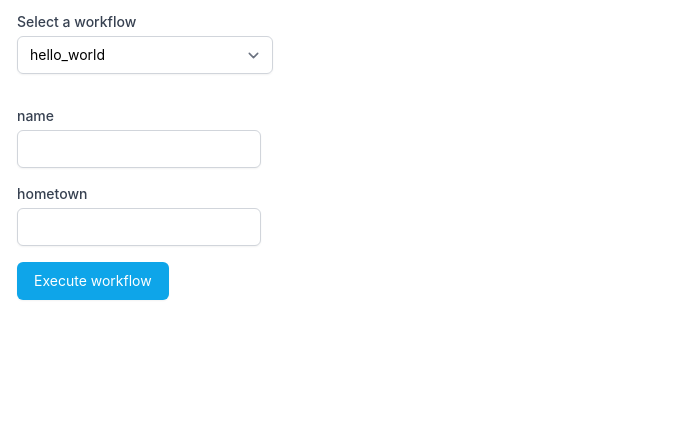
Workflows › provides input fields when required
The width and height of the screenshot is (674, 447).
Click the field labelled "name".
click(139, 149)  # box top-left (17, 130), bottom-right (261, 168)
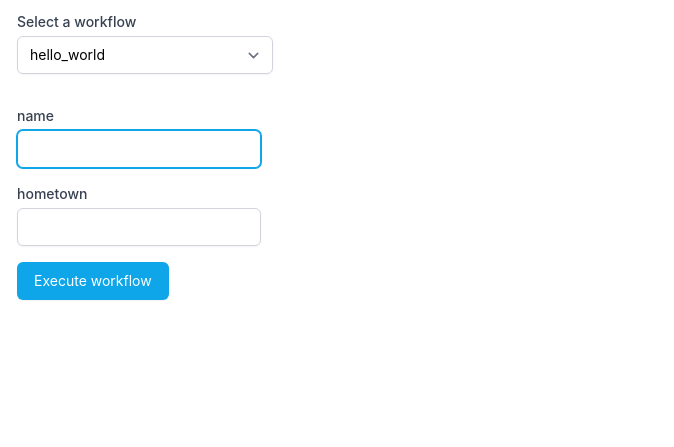
Type keys "Taylor"
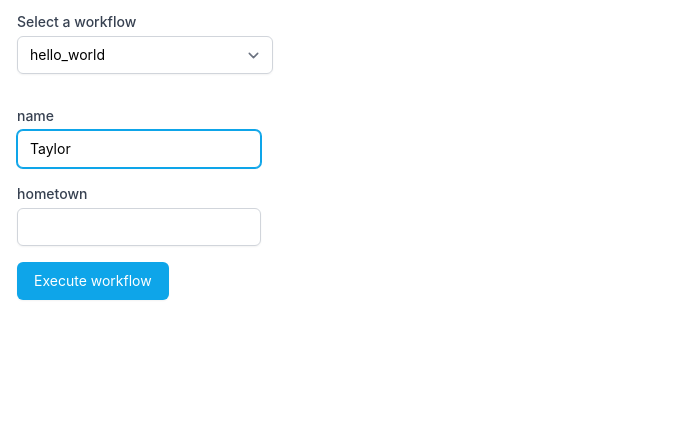
Click the field labelled "hometown".
click(139, 227)  # box top-left (17, 208), bottom-right (261, 246)
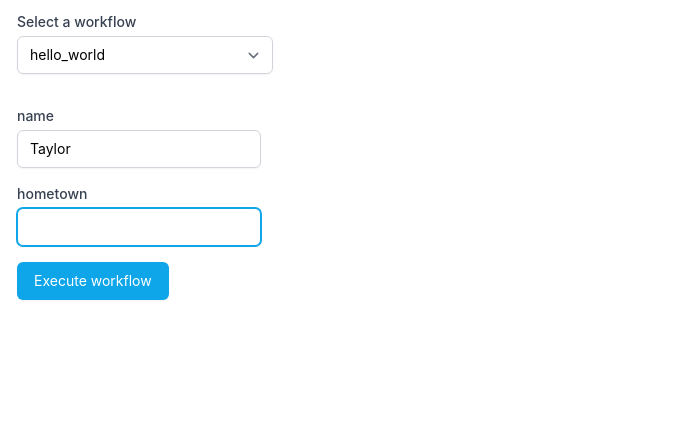
Type keys "Brockton Bay"
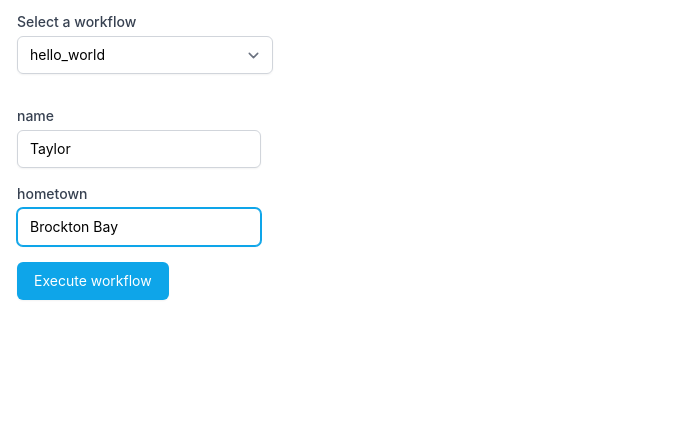
Click the button "Execute workflow".
click(93, 281)  # box top-left (17, 262), bottom-right (169, 300)
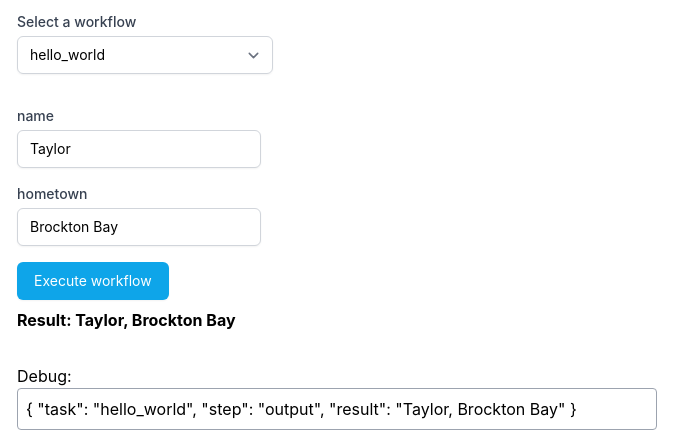
Check: the text "Result: Taylor, Brockton Bay" is shown, box top-left (17, 310), bottom-right (236, 330)
